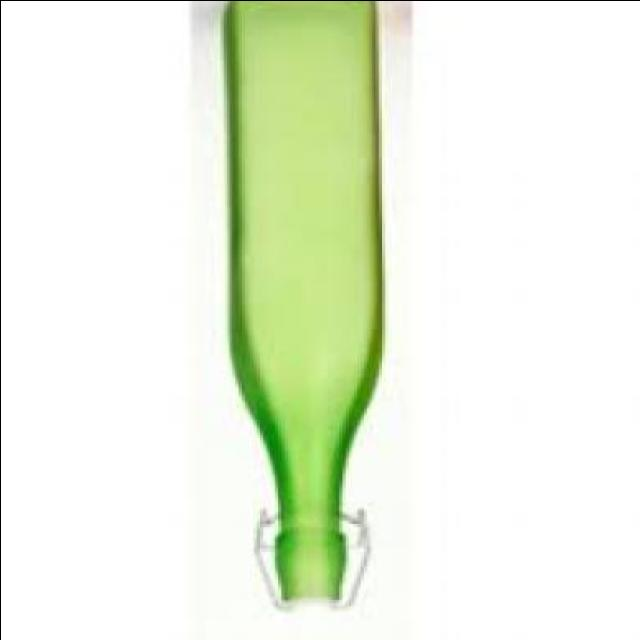kaca: (225, 0, 386, 606)
